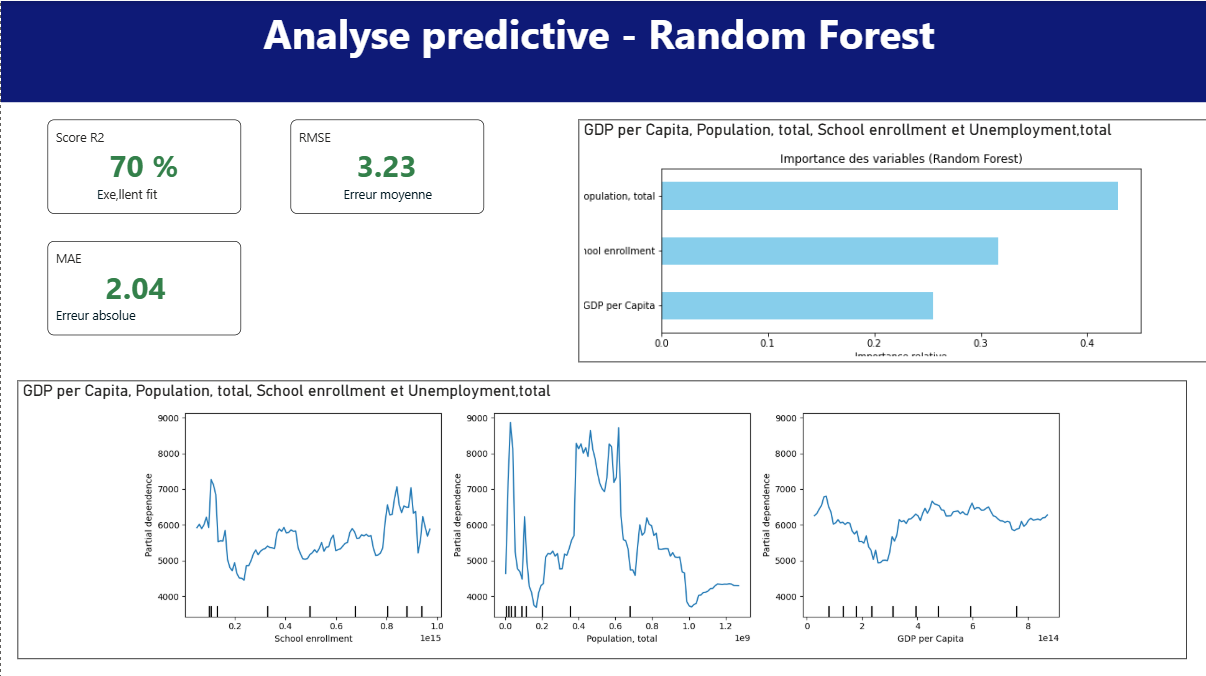

What the dashboard file says about the page in this screenshot:
{"tool":"powerbi","page":{"name":"Page 3","canvas":[1280,720],"ordinal":3},"visuals":[{"type":"actionButton","box":[0,0,100,40],"z":0},{"type":"pythonVisual","fields":{"Values":["dataset_nettoye.GDP per Capita","dataset_nettoye.Population, total","dataset_nettoye.School enrollment","dataset_nettoye.Unemployment,total"]},"box":[17.5,402.5,1240,295],"z":1000},{"type":"pythonVisual","fields":{"Values":["dataset_nettoye.GDP per Capita","dataset_nettoye.Population, total","dataset_nettoye.School enrollment","dataset_nettoye.Unemployment,total"]},"box":[612.5,125,667.5,257.5],"z":2000},{"type":"textbox","box":[0,0,1280,107.5],"z":3000},{"type":"textbox","box":[50,125,205,100],"z":4000},{"type":"textbox","box":[307.5,125,205,100],"z":5000},{"type":"textbox","box":[50,255,205,100],"z":6000}]}

Visuals, with their boxes in screenshot pixels (x1, y1, x2, y2), scaled from the page's 1280x720 canvas onto the 1206x676 screenshot:
actionButton: locate(0, 0, 94, 38)
pythonVisual - dataset_nettoye.GDP per Capita x dataset_nettoye.Population, total: locate(16, 378, 1185, 655)
pythonVisual - dataset_nettoye.GDP per Capita x dataset_nettoye.Population, total: locate(577, 117, 1205, 359)
textbox: locate(0, 0, 1205, 101)
textbox: locate(47, 117, 240, 211)
textbox: locate(290, 117, 483, 211)
textbox: locate(47, 239, 240, 333)
